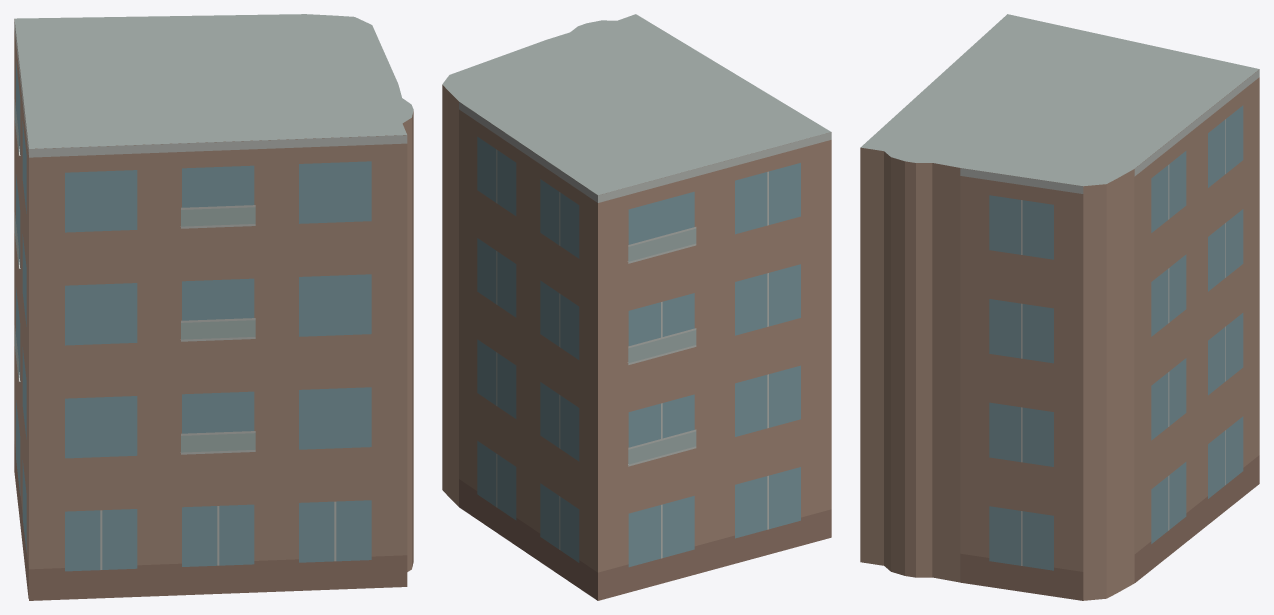
The model's file is survey-upis-32986855.glb.
3 views of the same model, side by side, from view 1: azimuth 30°, elevation 25°; view 2: azimuth 150°, elevation 25°; view 3: azimuth 270°, elevation 25° (orthographic). The views are drawn at different scales.
Parts seen in each view (by area): view 1: survey-upis-32986855.tmp; view 2: survey-upis-32986855.tmp; view 3: survey-upis-32986855.tmp.
Boxes of the visible parts, <box> form: survey-upis-32986855.tmp: <box>14,14,413,600</box>; survey-upis-32986855.tmp: <box>442,14,831,600</box>; survey-upis-32986855.tmp: <box>860,14,1259,600</box>.
Size of the model in its own units: 11.36 by 12.75 by 11.14.
